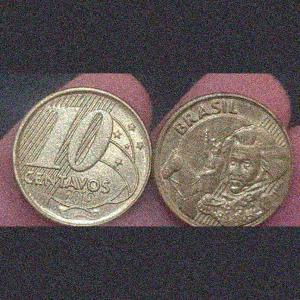10 cent: (11, 85, 152, 226), (156, 90, 286, 227)
